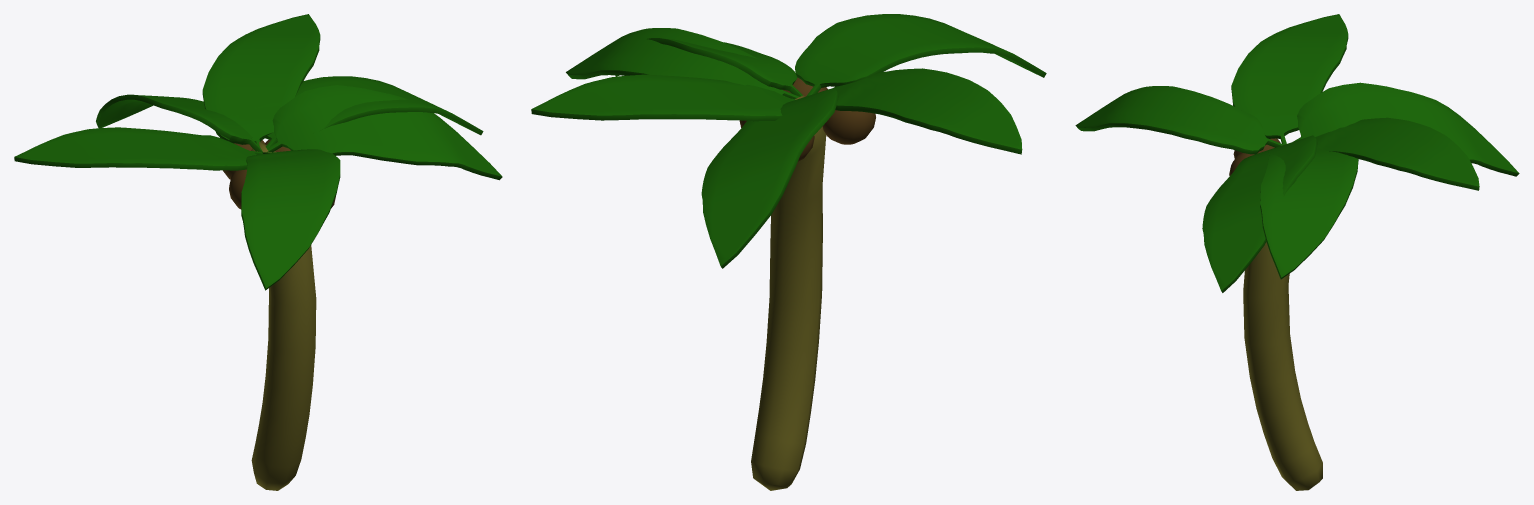
Rendered from PalmTree.fbx.
3 renders of one model, left to right at view 1: azimuth 30°, elevation 25°; view 2: azimuth 150°, elevation 25°; view 3: azimuth 270°, elevation 25°, orthographic. The views are drawn at different scales.
Parts seen in each view (by area): view 1: Trunk; view 2: Trunk; view 3: Trunk.
Boxes of the visible parts, <box> form: Trunk: <box>14,14,502,490</box>; Trunk: <box>531,14,1046,490</box>; Trunk: <box>1075,14,1519,490</box>.
Size of the model in its own units: 1953 by 1627 by 1775.
